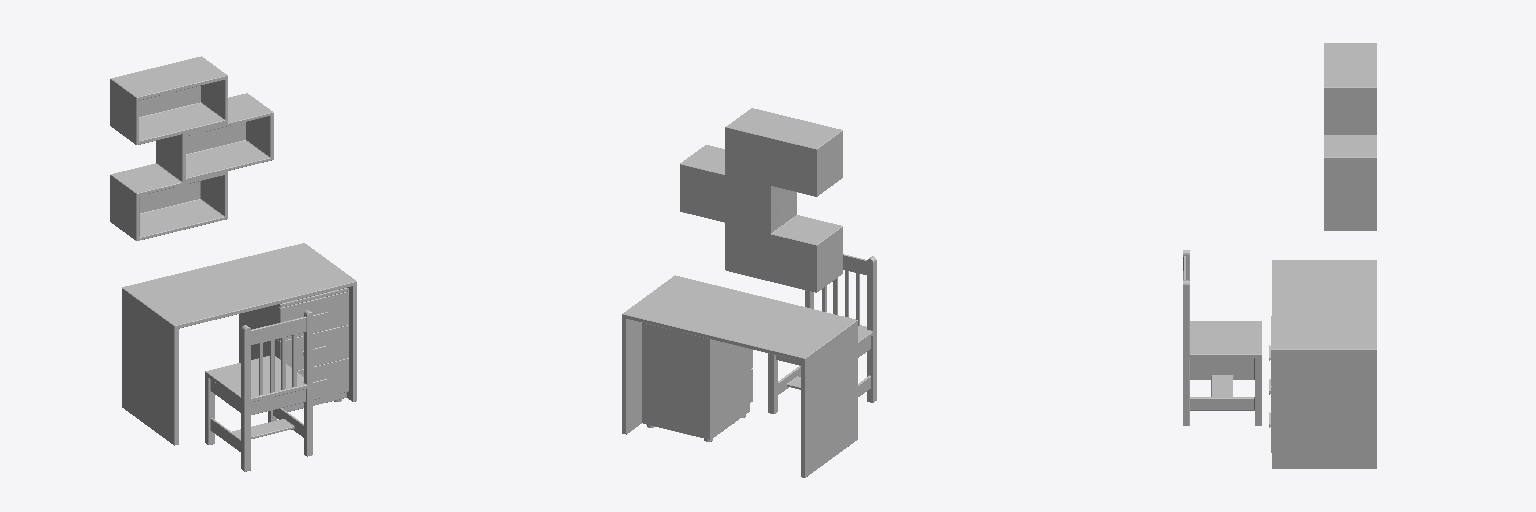
File: Kids Reading Table_01_obj.obj
3 views of the same model, side by side, from view 1: azimuth 30°, elevation 25°; view 2: azimuth 150°, elevation 25°; view 3: azimuth 270°, elevation 25° (orthographic).
Parts seen in each view (by area): view 1: Object01, Arc_object_03, Object02, Arc_object_05, Arc_object_09, Arc_object_04, Arc_object_10; view 2: Object01, Arc_object_03, Arc_object_04, Object02; view 3: Arc_object_03, Object01, Object02.
Boxes of the visible parts, x1=… form: Object01: x1=110, y1=56, x2=273, y2=240; Arc_object_03: x1=122, y1=243, x2=356, y2=445; Object02: x1=205, y1=310, x2=312, y2=471; Arc_object_05: x1=278, y1=291, x2=348, y2=340; Arc_object_09: x1=278, y1=325, x2=348, y2=370; Arc_object_04: x1=239, y1=288, x2=348, y2=411; Arc_object_10: x1=297, y1=358, x2=348, y2=399; Object01: x1=680, y1=108, x2=842, y2=292; Arc_object_03: x1=622, y1=275, x2=857, y2=477; Arc_object_04: x1=642, y1=323, x2=749, y2=439; Object02: x1=768, y1=254, x2=876, y2=413; Arc_object_03: x1=1272, y1=260, x2=1376, y2=468; Object01: x1=1324, y1=43, x2=1376, y2=230; Object02: x1=1183, y1=250, x2=1261, y2=425.
Size of the model in its own units: 51 by 83 by 44.17.